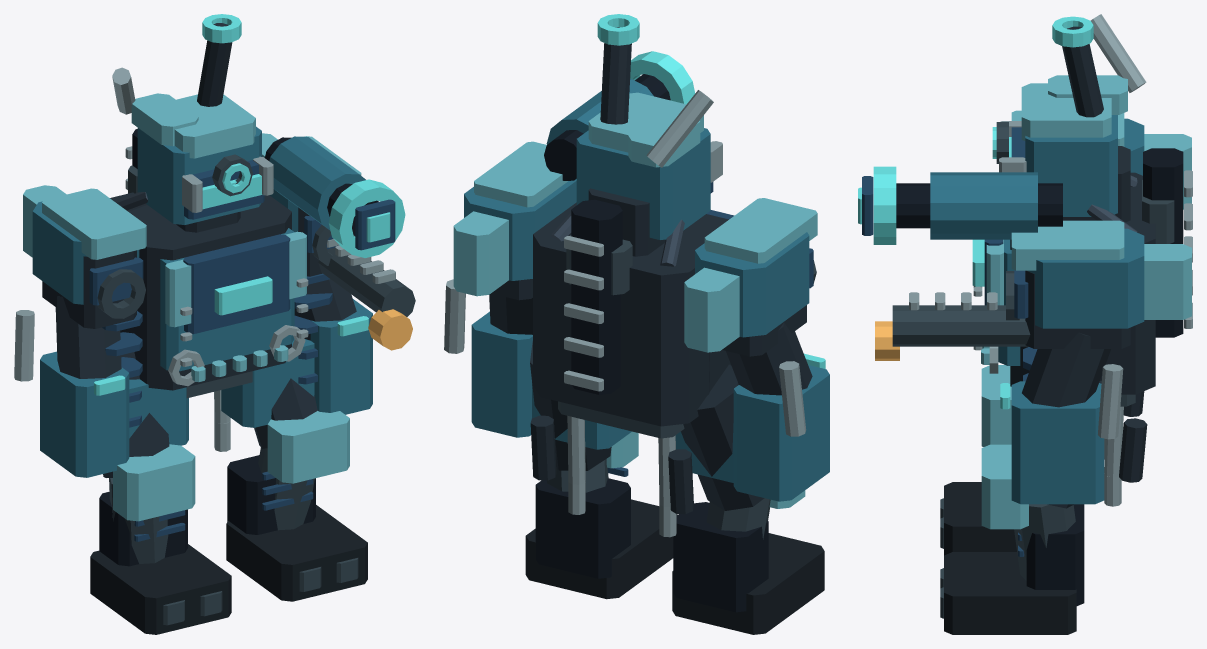
The model's file is enemy_marksman.obj.
3 views of the same model, side by side, from view 1: azimuth 30°, elevation 25°; view 2: azimuth 150°, elevation 25°; view 3: azimuth 270°, elevation 25° (orthographic). The views are drawn at different scales.
Size of the model in its own units: 1.62 by 2.49 by 1.34.
